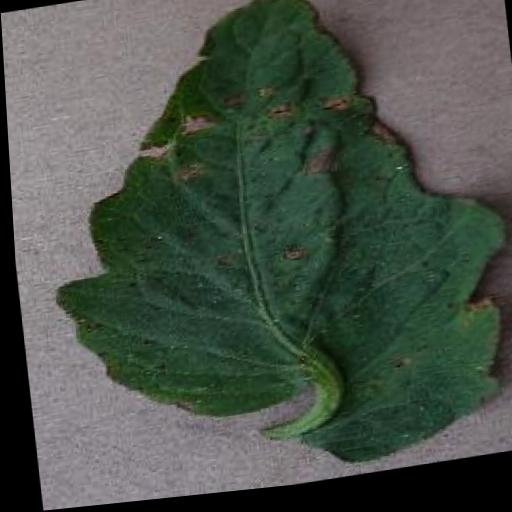Bacterial Spot: (16, 0, 512, 511)
